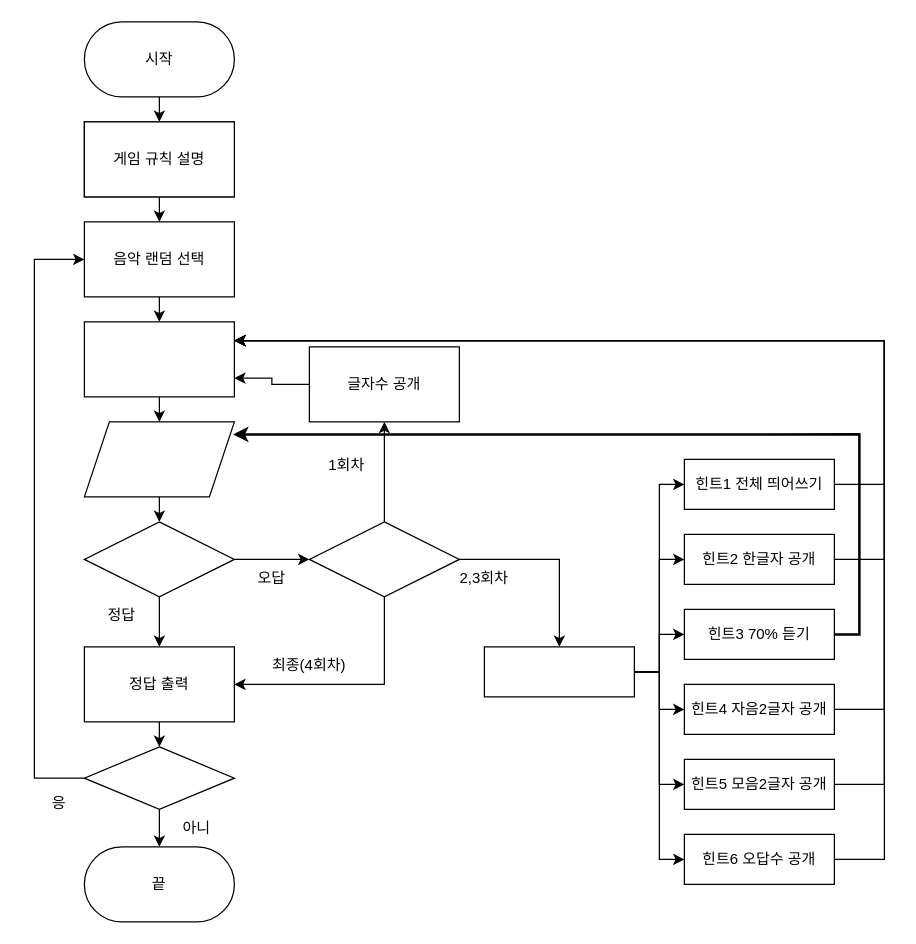
Image size: 916x944. Some labels were removed from this diagram. Each missing label, with the centre of its shape:
"더 할래?" goes at point (158, 777).
"받쓰 입력" goes at point (158, 459).
"음악듣기" goes at point (158, 359).
"판단(정답확인)" goes at point (158, 559).
"횟수" goes at point (383, 559).
"힌트 선택" goes at point (558, 671).
